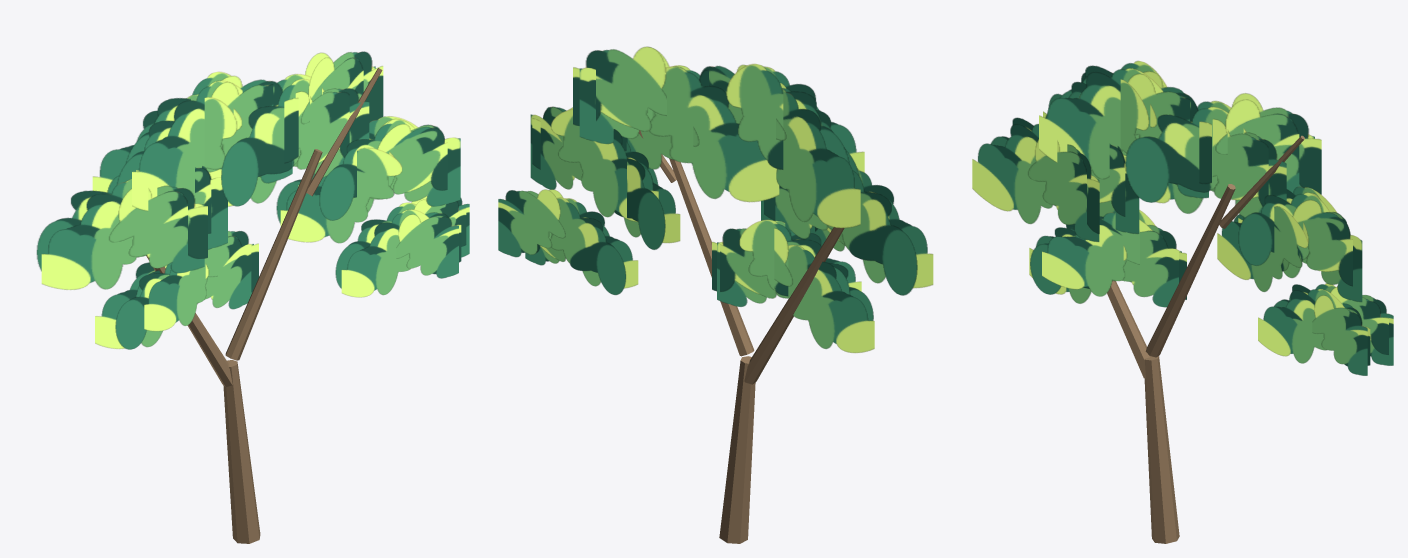
File: TREE_EUCALYPTUS_COASTAL_002_LOD_GAMEPLAY.glb
3 renders of one model, left to right at view 1: azimuth 30°, elevation 25°; view 2: azimuth 150°, elevation 25°; view 3: azimuth 330°, elevation 25°, orthographic. The views are drawn at different scales.
Parts seen in each view (by area): view 1: GG_TREE_EUCALYPTUS_COASTAL_002_MID_00_01, GG_TREE_EUCALYPTUS_COASTAL_002_MID_01_02, GG_TREE_EUCALYPTUS_COASTAL_002_MID_00_00, GG_TREE_EUCALYPTUS_COASTAL_002_MID_02_01, GG_TREE_EUCALYPTUS_COASTAL_002_MID_03_00, GG_TREE_EUCALYPTUS_COASTAL_002_BRANCH_00, GG_TREE_EUCALYPTUS_COASTAL_002_MID_03_01, GG_TREE_EUCALYPTUS_COASTAL_002_MID_04_01, GG_TREE_EUCALYPTUS_COASTAL_002_MID_05_02, GG_TREE_EUCALYPTUS_COASTAL_002_MID_04_00, GG_TREE_EUCALYPTUS_COASTAL_002_MID_02_00, GG_TREE_EUCALYPTUS_COASTAL_002_BRANCH_02 (+22 smaller); view 2: GG_TREE_EUCALYPTUS_COASTAL_002_REAR_02_01, GG_TREE_EUCALYPTUS_COASTAL_002_REAR_01_00, GG_TREE_EUCALYPTUS_COASTAL_002_REAR_02_02, GG_TREE_EUCALYPTUS_COASTAL_002_REAR_05_00, GG_TREE_EUCALYPTUS_COASTAL_002_REAR_01_02, GG_TREE_EUCALYPTUS_COASTAL_002_REAR_03_02, GG_TREE_EUCALYPTUS_COASTAL_002_REAR_00_01, GG_TREE_EUCALYPTUS_COASTAL_002_BRANCH_00, GG_TREE_EUCALYPTUS_COASTAL_002_REAR_04_02, GG_TREE_EUCALYPTUS_COASTAL_002_REAR_04_01, GG_TREE_EUCALYPTUS_COASTAL_002_REAR_05_01, GG_TREE_EUCALYPTUS_COASTAL_002_REAR_05_02 (+14 smaller); view 3: GG_TREE_EUCALYPTUS_COASTAL_002_MID_01_02, GG_TREE_EUCALYPTUS_COASTAL_002_MID_02_01, GG_TREE_EUCALYPTUS_COASTAL_002_MID_05_02, GG_TREE_EUCALYPTUS_COASTAL_002_MID_00_01, GG_TREE_EUCALYPTUS_COASTAL_002_BRANCH_00, GG_TREE_EUCALYPTUS_COASTAL_002_MID_00_00, GG_TREE_EUCALYPTUS_COASTAL_002_MID_03_00, GG_TREE_EUCALYPTUS_COASTAL_002_MID_04_01, GG_TREE_EUCALYPTUS_COASTAL_002_MID_02_00, GG_TREE_EUCALYPTUS_COASTAL_002_MID_03_01, GG_TREE_EUCALYPTUS_COASTAL_002_MID_02_02, GG_TREE_EUCALYPTUS_COASTAL_002_MID_04_00 (+21 smaller).
Boxes of the visible parts, x1=… form: GG_TREE_EUCALYPTUS_COASTAL_002_MID_00_01: x1=41, y1=179, x2=136, y2=289; GG_TREE_EUCALYPTUS_COASTAL_002_MID_01_02: x1=132, y1=80, x2=242, y2=210; GG_TREE_EUCALYPTUS_COASTAL_002_MID_00_00: x1=109, y1=188, x2=204, y2=273; GG_TREE_EUCALYPTUS_COASTAL_002_MID_02_01: x1=221, y1=79, x2=324, y2=206; GG_TREE_EUCALYPTUS_COASTAL_002_MID_03_00: x1=280, y1=147, x2=402, y2=243; GG_TREE_EUCALYPTUS_COASTAL_002_BRANCH_00: x1=223, y1=360, x2=260, y2=543; GG_TREE_EUCALYPTUS_COASTAL_002_MID_03_01: x1=377, y1=124, x2=447, y2=194; GG_TREE_EUCALYPTUS_COASTAL_002_MID_04_01: x1=341, y1=209, x2=428, y2=297; GG_TREE_EUCALYPTUS_COASTAL_002_MID_05_02: x1=144, y1=246, x2=217, y2=331; GG_TREE_EUCALYPTUS_COASTAL_002_MID_04_00: x1=396, y1=214, x2=458, y2=278; GG_TREE_EUCALYPTUS_COASTAL_002_MID_02_00: x1=295, y1=91, x2=349, y2=169; GG_TREE_EUCALYPTUS_COASTAL_002_BRANCH_02: x1=225, y1=149, x2=322, y2=360; GG_TREE_EUCALYPTUS_COASTAL_002_REAR_02_01: x1=649, y1=66, x2=779, y2=202; GG_TREE_EUCALYPTUS_COASTAL_002_REAR_01_00: x1=776, y1=88, x2=860, y2=228; GG_TREE_EUCALYPTUS_COASTAL_002_REAR_02_02: x1=573, y1=46, x2=666, y2=131; GG_TREE_EUCALYPTUS_COASTAL_002_REAR_05_00: x1=776, y1=245, x2=874, y2=352; GG_TREE_EUCALYPTUS_COASTAL_002_REAR_01_02: x1=726, y1=63, x2=849, y2=169; GG_TREE_EUCALYPTUS_COASTAL_002_REAR_03_02: x1=551, y1=109, x2=658, y2=221; GG_TREE_EUCALYPTUS_COASTAL_002_REAR_00_01: x1=828, y1=170, x2=917, y2=295; GG_TREE_EUCALYPTUS_COASTAL_002_BRANCH_00: x1=719, y1=356, x2=755, y2=543; GG_TREE_EUCALYPTUS_COASTAL_002_REAR_04_02: x1=498, y1=189, x2=565, y2=257; GG_TREE_EUCALYPTUS_COASTAL_002_REAR_04_01: x1=550, y1=197, x2=625, y2=294; GG_TREE_EUCALYPTUS_COASTAL_002_REAR_05_01: x1=712, y1=228, x2=792, y2=298; GG_TREE_EUCALYPTUS_COASTAL_002_REAR_05_02: x1=739, y1=219, x2=850, y2=296; GG_TREE_EUCALYPTUS_COASTAL_002_MID_01_02: x1=1039, y1=68, x2=1163, y2=179; GG_TREE_EUCALYPTUS_COASTAL_002_MID_02_01: x1=1125, y1=106, x2=1246, y2=202; GG_TREE_EUCALYPTUS_COASTAL_002_MID_05_02: x1=1042, y1=212, x2=1152, y2=296; GG_TREE_EUCALYPTUS_COASTAL_002_MID_00_01: x1=972, y1=124, x2=1052, y2=223; GG_TREE_EUCALYPTUS_COASTAL_002_BRANCH_00: x1=1144, y1=356, x2=1179, y2=543; GG_TREE_EUCALYPTUS_COASTAL_002_MID_00_00: x1=1028, y1=139, x2=1099, y2=241; GG_TREE_EUCALYPTUS_COASTAL_002_MID_03_00: x1=1217, y1=206, x2=1307, y2=291; GG_TREE_EUCALYPTUS_COASTAL_002_MID_04_01: x1=1258, y1=289, x2=1344, y2=363; GG_TREE_EUCALYPTUS_COASTAL_002_MID_02_00: x1=1212, y1=119, x2=1268, y2=206; GG_TREE_EUCALYPTUS_COASTAL_002_MID_03_01: x1=1293, y1=200, x2=1352, y2=286; GG_TREE_EUCALYPTUS_COASTAL_002_MID_02_02: x1=1215, y1=99, x2=1314, y2=193; GG_TREE_EUCALYPTUS_COASTAL_002_MID_04_00: x1=1312, y1=295, x2=1367, y2=375.
Size of the model in its own units: 7.74 by 8.34 by 1.08.
2 materials, 1 textured.
